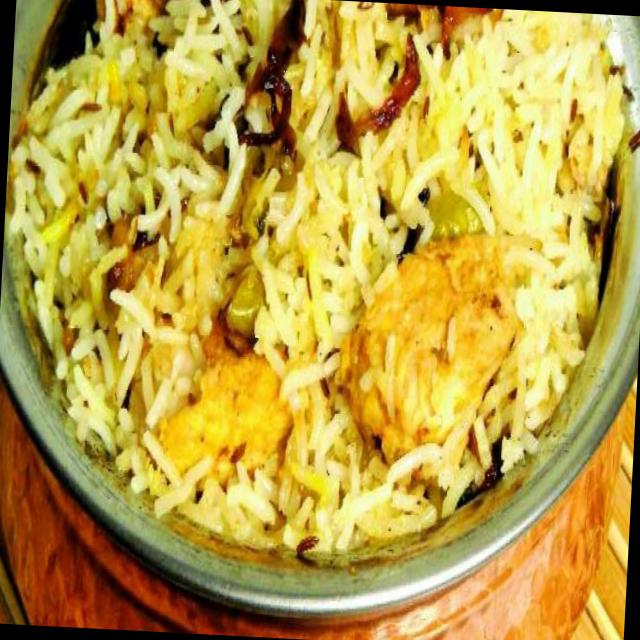Biryani: (0, 0, 634, 571)
